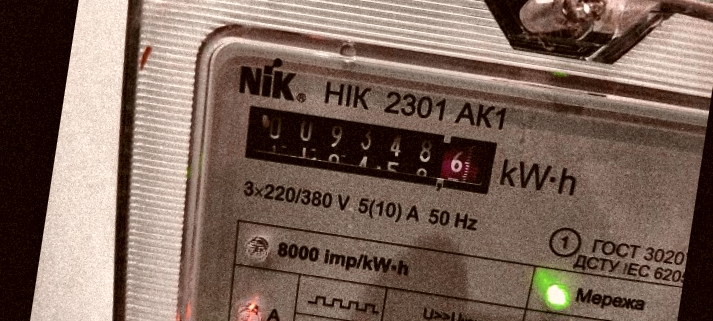0: (266, 112, 283, 140), (296, 116, 314, 141)
3: (356, 125, 374, 152)
4: (386, 129, 403, 158)
6: (446, 145, 467, 175)
8: (415, 135, 434, 165)
9: (325, 121, 344, 149)
screen: (231, 95, 507, 204)
